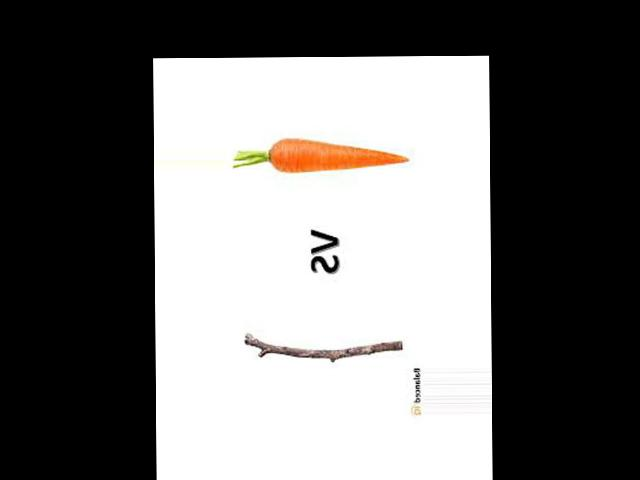carrot: (261, 135, 414, 179)
